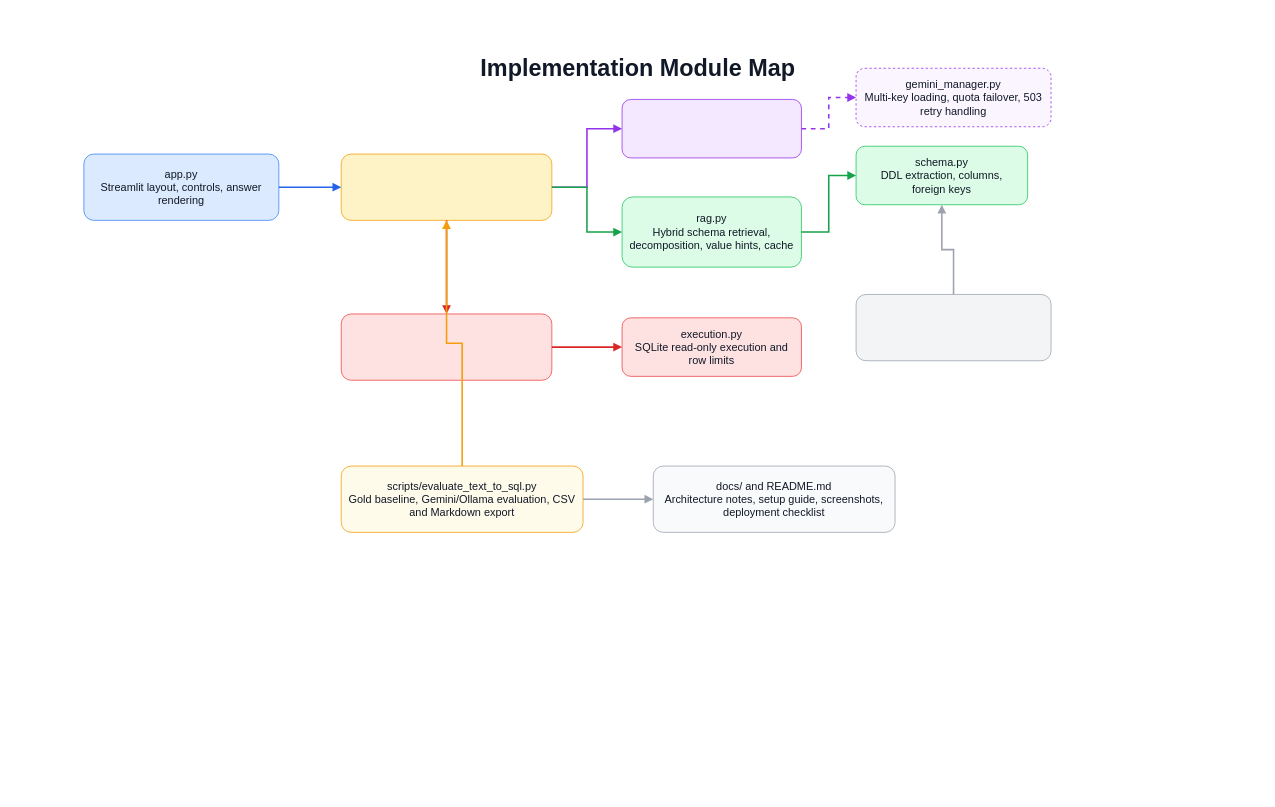
Image size: 1275x807. Some labels were removed from this diagram. Here are the shapes that lost their labels. From the top down, the centre of each, then its label:
At (711,128): "llm.py Prompt assembly, Gemini/Ollama calls, SQL-only response cleanup".
At (446,186): "pipeline.py Main orchestration, prompt construction, repair loop".
At (446,346): "safety.py SQL validation, sqlglot AST, deny-list, read-only policy".
At (953,327): "data_setup.py / ingestion.py Demo database creation and CSV conversion".
